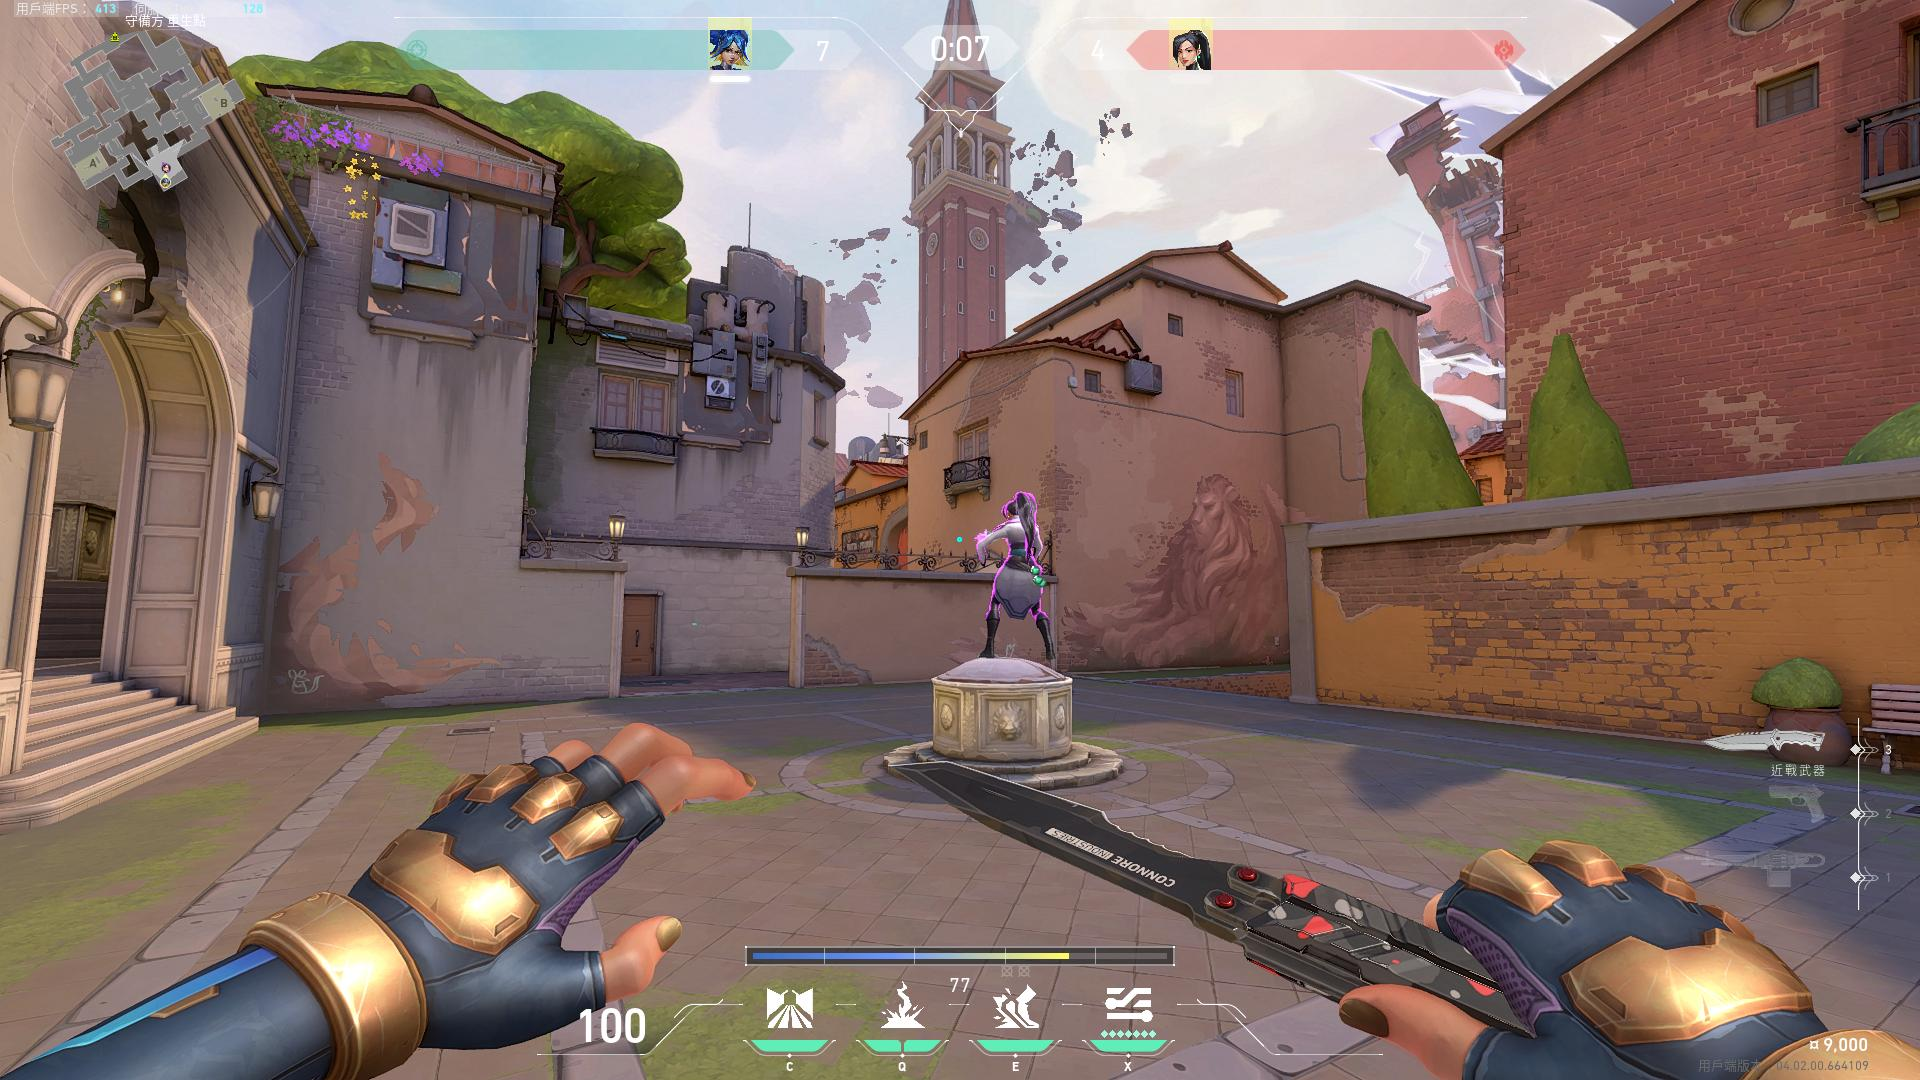enemyBody: (1007, 524, 1033, 558)
enemyHead: (1007, 505, 1018, 516)
